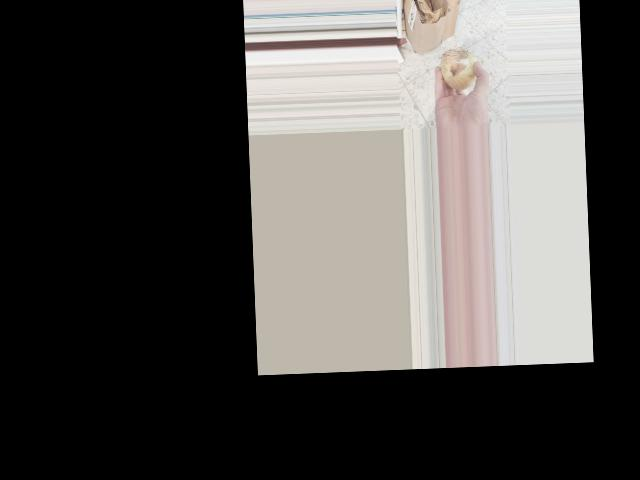onion: (439, 47, 485, 93)
